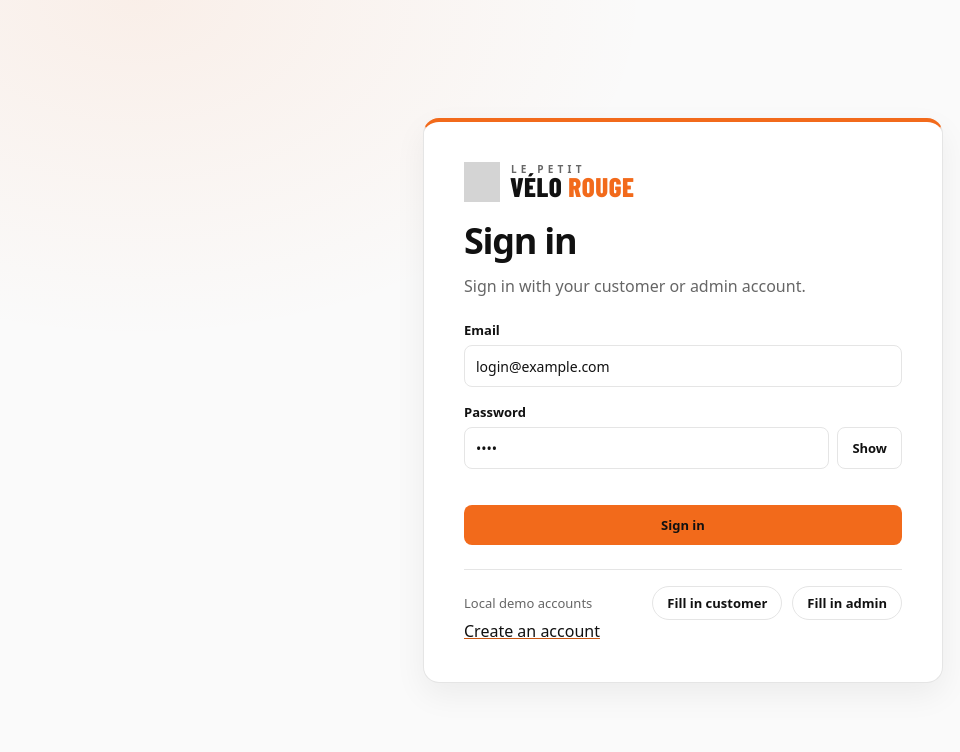
Test: customer pages › shows login progress and errors while preventing repeat submission
Replace the text in the field labelled "Email" with "test@example.com" at (683, 366), box [464,345,902,387]
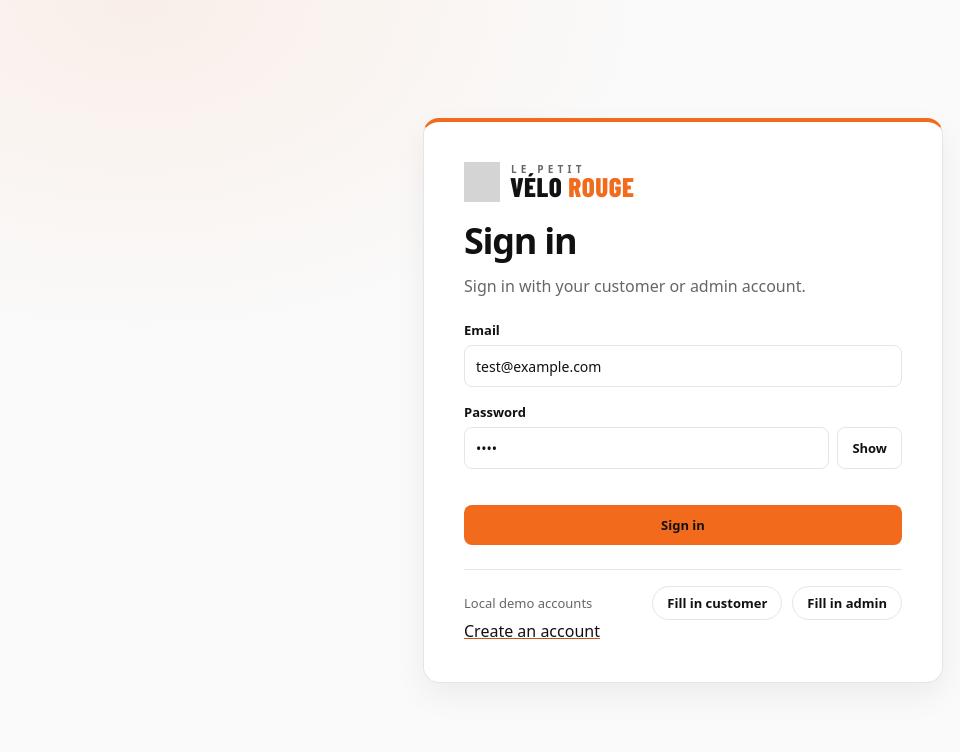
Type "secret" into the password field labelled "Password" at (647, 448), box [464,427,829,469]
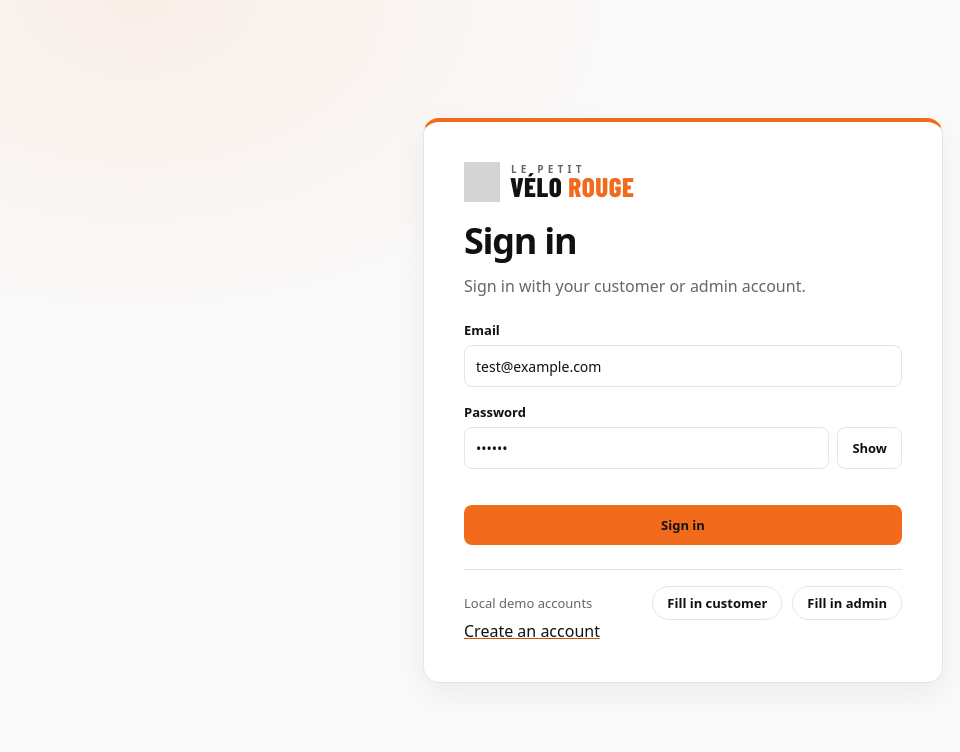
Click the button with aria-label "Show password" at (870, 448), box [837,427,902,469]
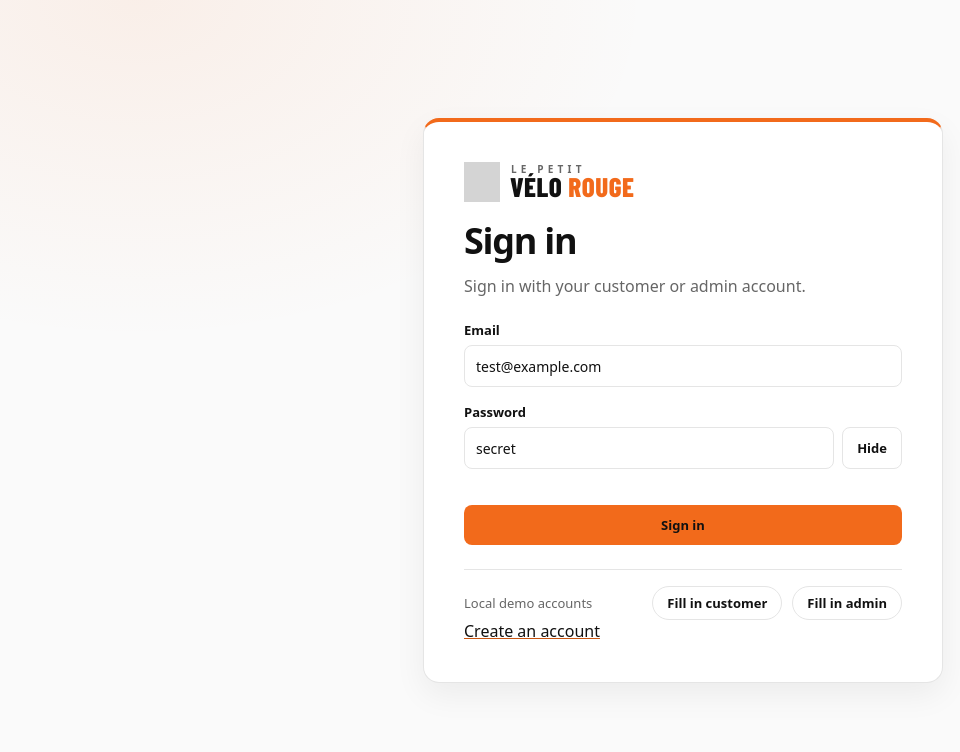
Submit the form "Sign in", box [464,321,902,545]
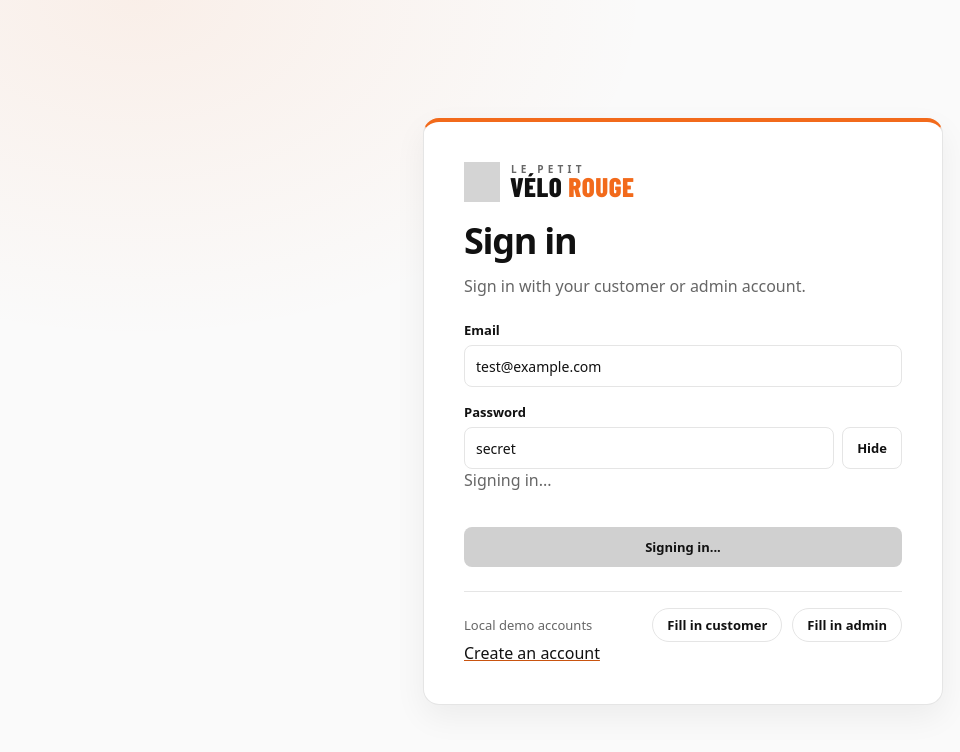
Expected: the button "Signing in..." is disabled, [464,527,902,567]
Submit the form named "Sign in", box [464,321,902,567]
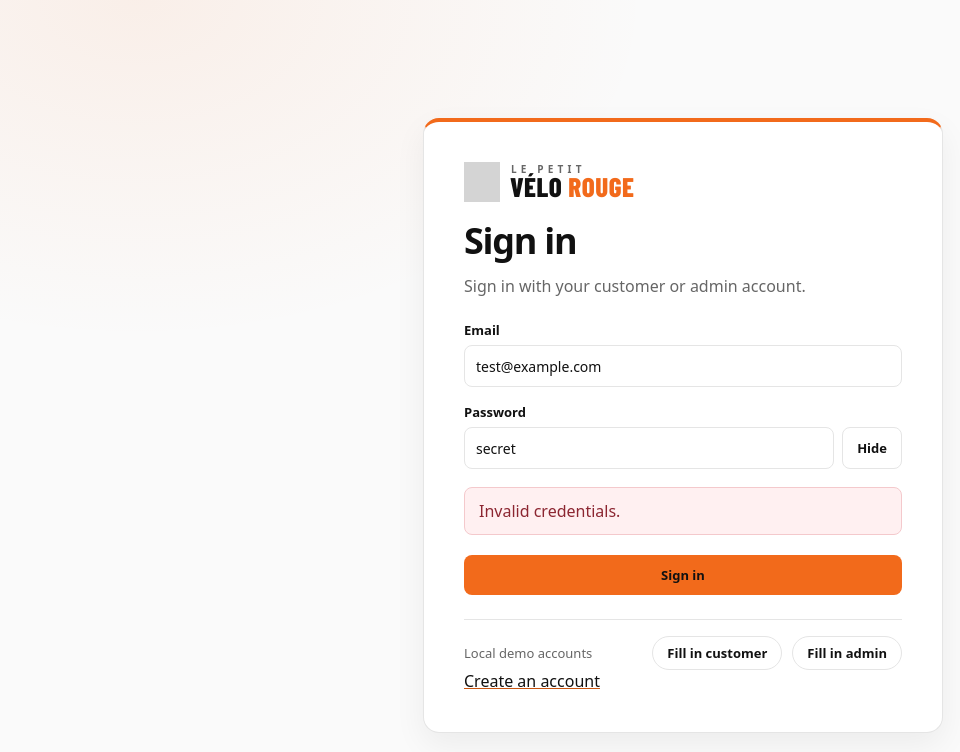
Expected: the message reads "Invalid credentials.", [479,500,620,522]
Expected: the button "Sign in" is enabled, [464,555,902,595]
